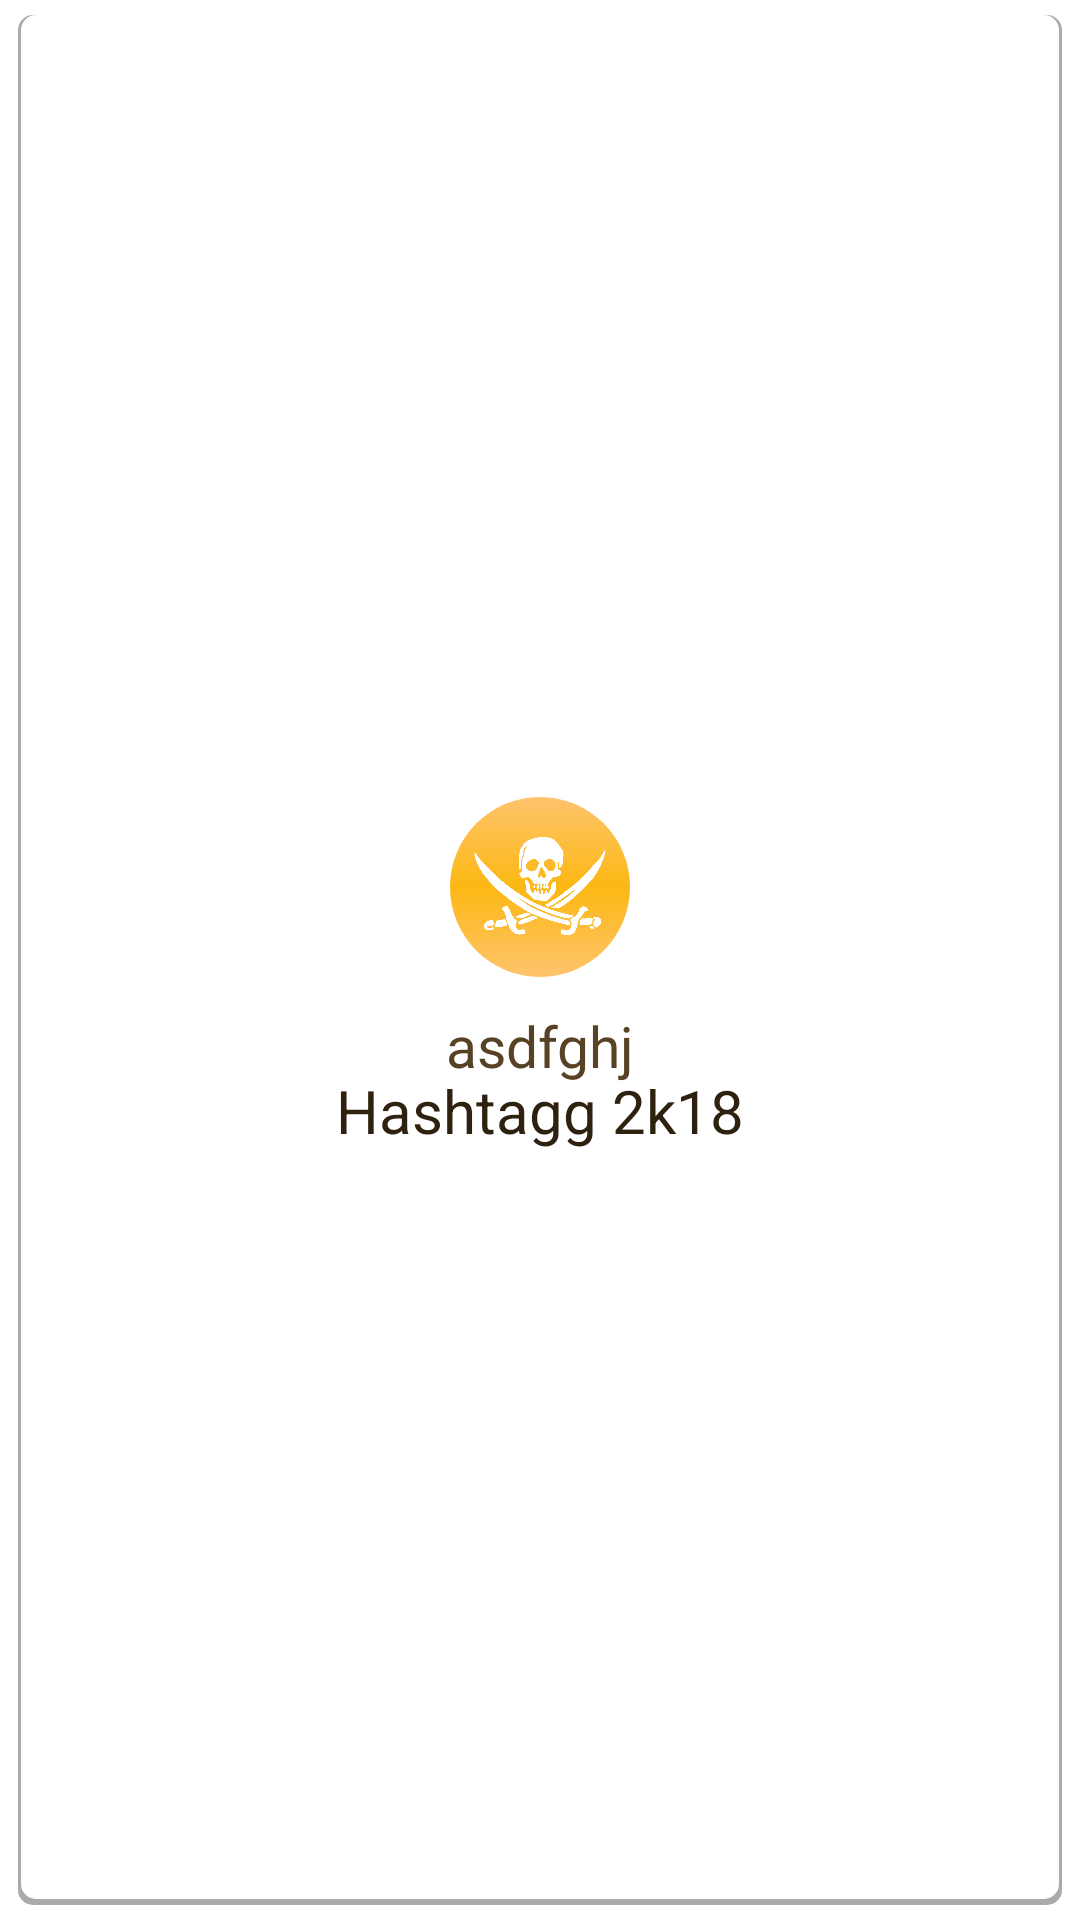

Named icons in this screenshot (1080px×1920px) and their bounding boxes, (x1, y1, x2, y2):
skull: (450, 797, 630, 977)
